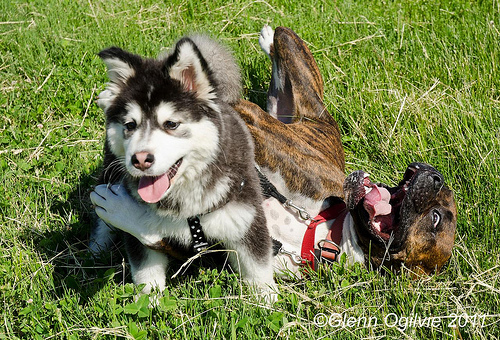dog: (89, 26, 457, 310)
